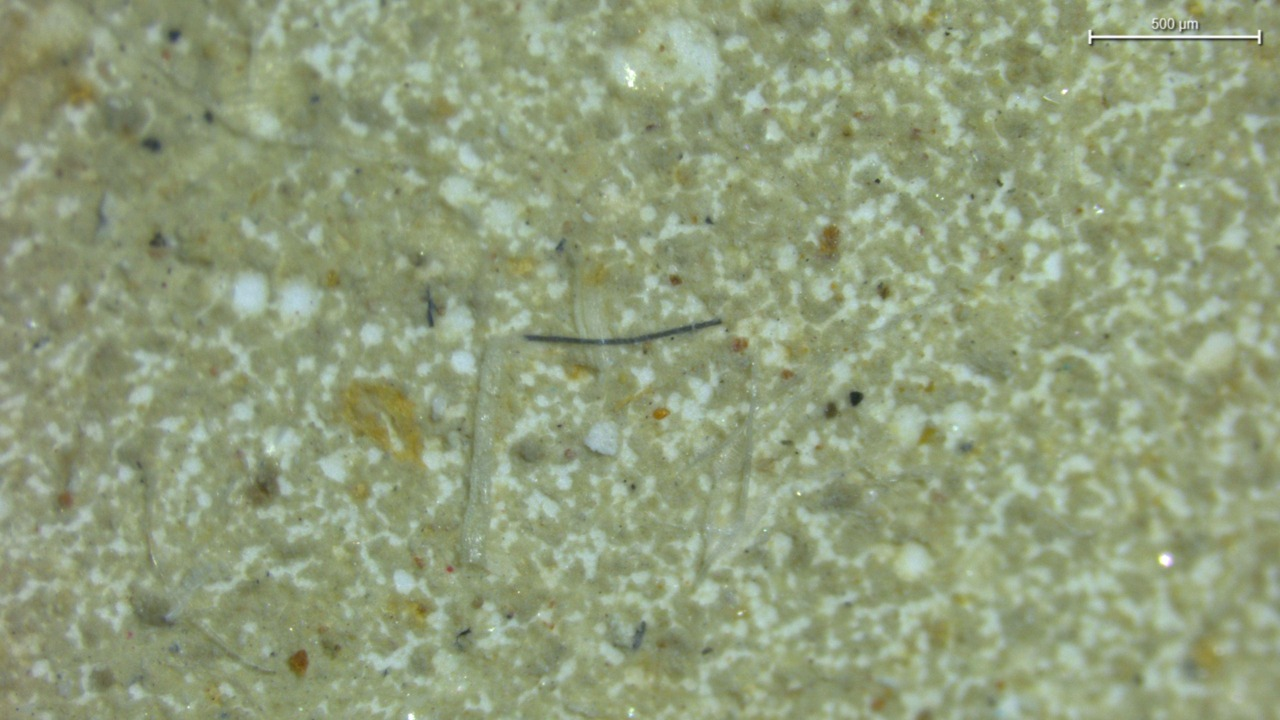microplastic_fragment: (584, 422, 618, 456)
